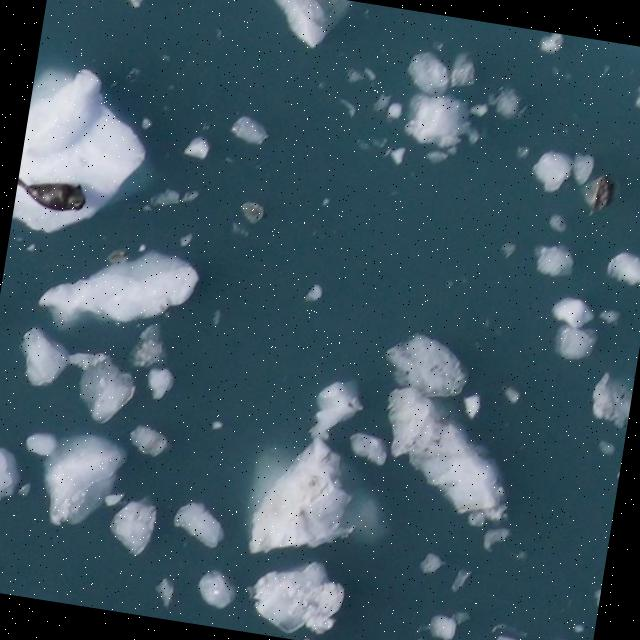seal: (17, 178, 86, 213)
